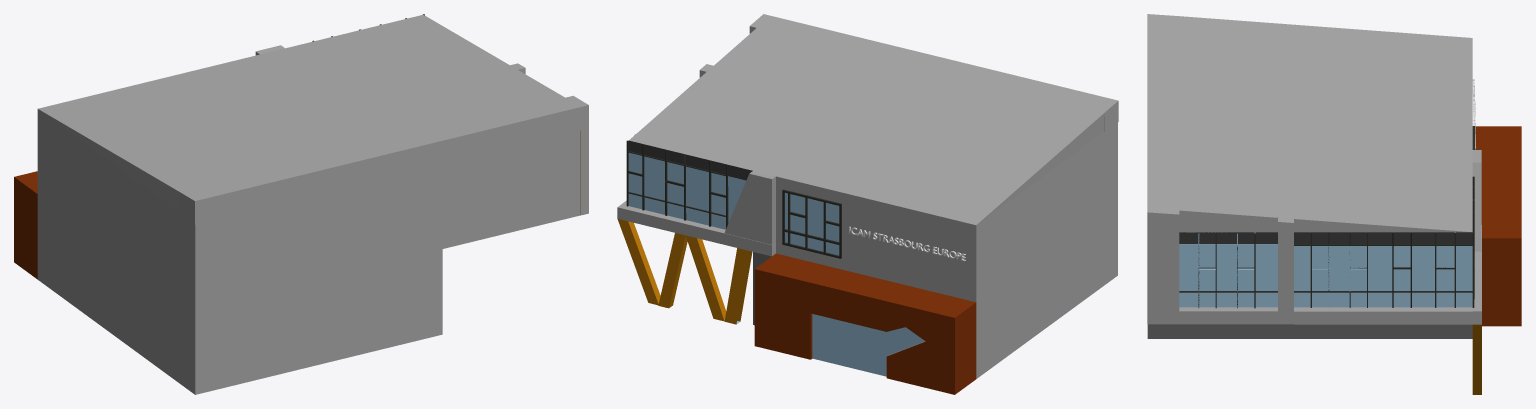
The model's file is icam.glb.
The picture shows the model from 3 angles, left to right: view 1: azimuth 30°, elevation 25°; view 2: azimuth 150°, elevation 25°; view 3: azimuth 270°, elevation 25°; orthographic projection. The views are drawn at different scales.
Parts seen in each view (by area): view 1: Base, Amphi; view 2: Base, Amphi, fenetre 1+2, Poutre, fenetre 4, fenetre 3, struct fenetre 3, Struct fenetre 1, Texte, struct fenetre 2; view 3: Base, fenetre 1+2, Amphi, fenêtre 5, struct fenetre 2, Mur de béton, Poutre.
Part boxes in pixels (box(x1,y1,x2,y2)): Base: box(37, 14, 588, 394); Amphi: box(14, 171, 37, 279); Base: box(617, 14, 1118, 378); Amphi: box(754, 253, 976, 394); fenetre 1+2: box(628, 140, 752, 229); Poutre: box(617, 219, 752, 324); fenetre 4: box(812, 314, 924, 376); fenetre 3: box(785, 192, 839, 255); struct fenetre 3: box(782, 189, 841, 258); Struct fenetre 1: box(626, 144, 728, 228); Texte: box(849, 226, 965, 261); struct fenetre 2: box(626, 134, 725, 216); Base: box(1147, 14, 1481, 338); fenetre 1+2: box(1294, 232, 1472, 307); Amphi: box(1475, 126, 1521, 326); fenêtre 5: box(1179, 232, 1277, 307); struct fenetre 2: box(1179, 199, 1474, 308); Mur de béton: box(1278, 324, 1472, 338); Poutre: box(1472, 324, 1481, 394).
Bounding box in the file's own units: 11.73 × 5.52 × 9.34.
